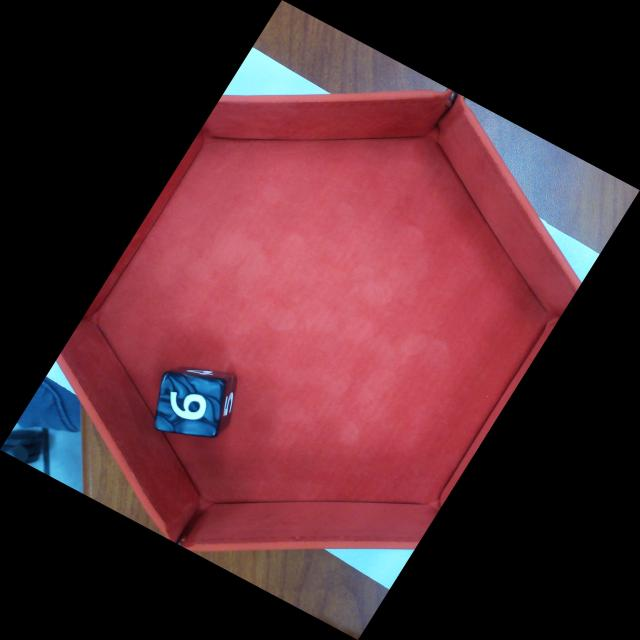dice: (153, 371, 227, 440)
